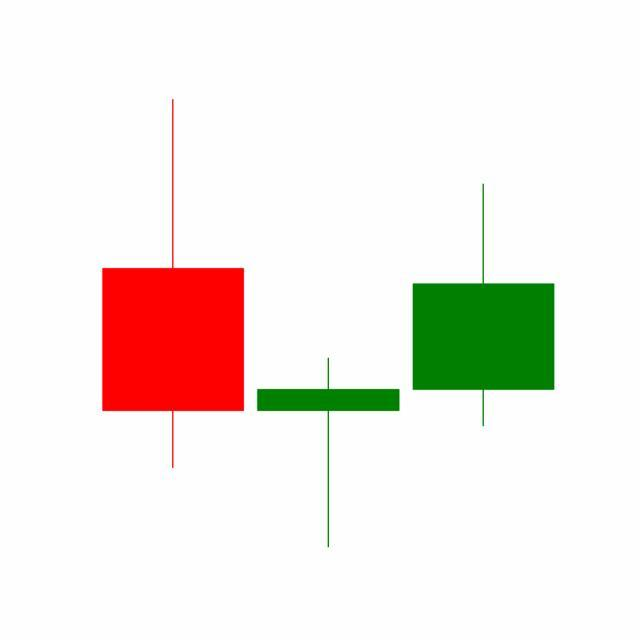Dragonfly Doji: (250, 356, 407, 551)
